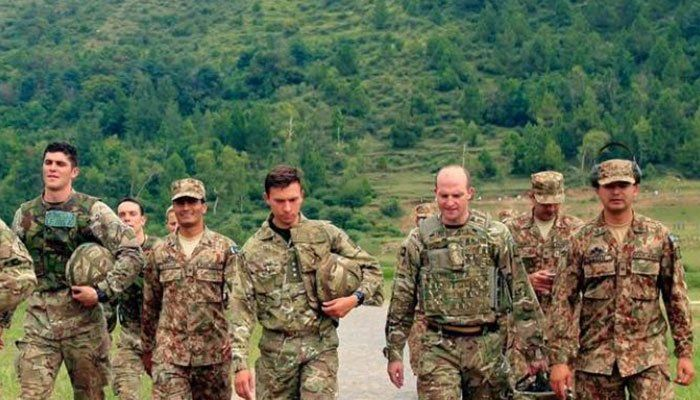uniform: (557, 160, 688, 391), (225, 187, 369, 391), (6, 153, 110, 389), (402, 199, 522, 384), (153, 201, 235, 390), (498, 198, 580, 358)
